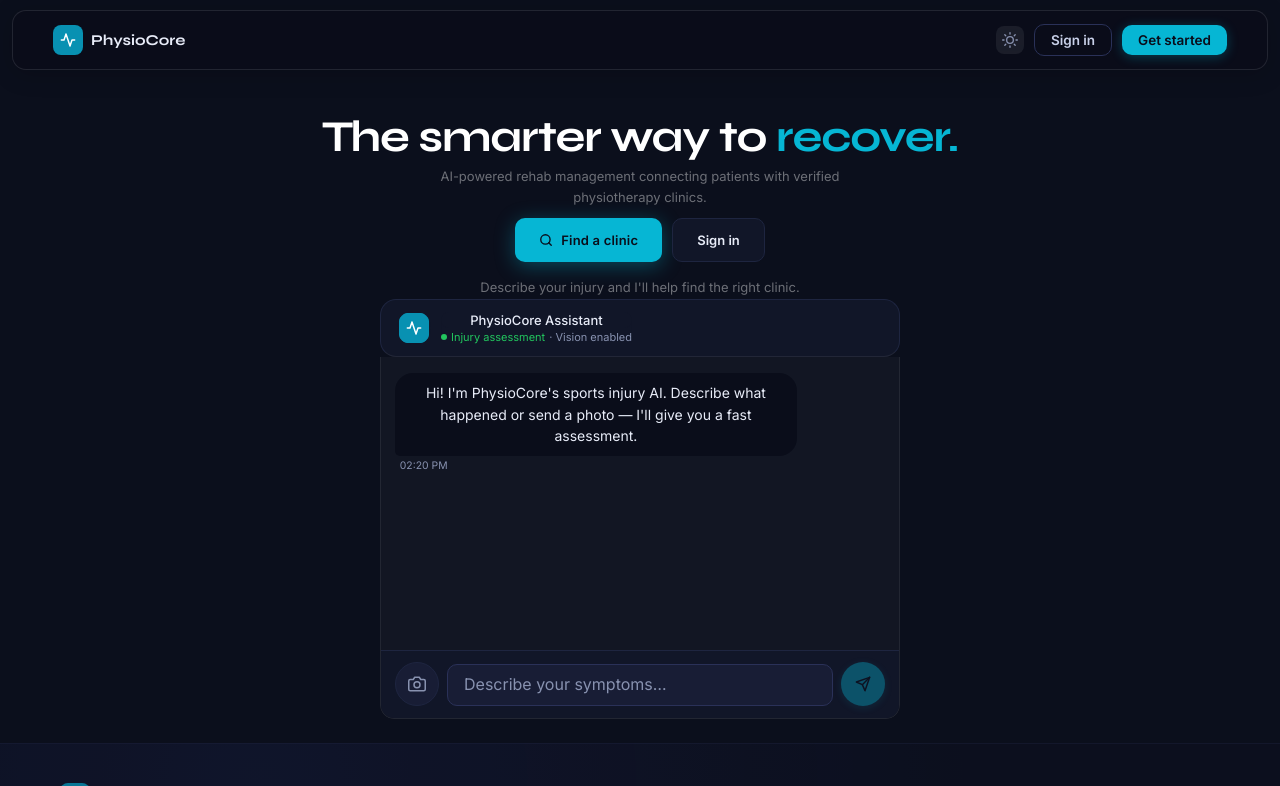
Test: guest landing mounts the chatbot and submits an assessment
Expected: the heading "The smarter way to recover." is shown, [322, 113, 958, 161]
Type "My ankle hurts" into the text box named "Message input".
click(640, 685); type("My ankle hurts")  # box [447, 664, 833, 706]
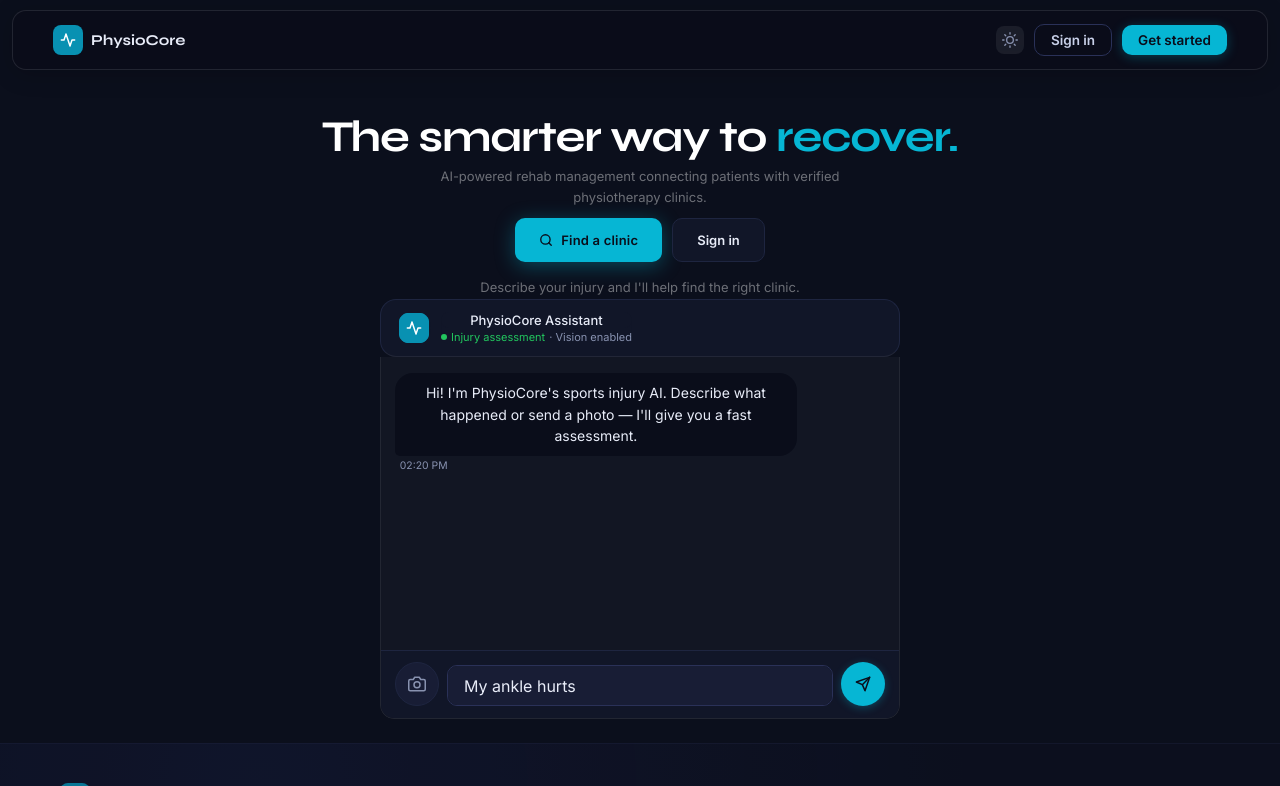
Click the button named "Send message".
click(863, 684)  # box [841, 662, 885, 706]
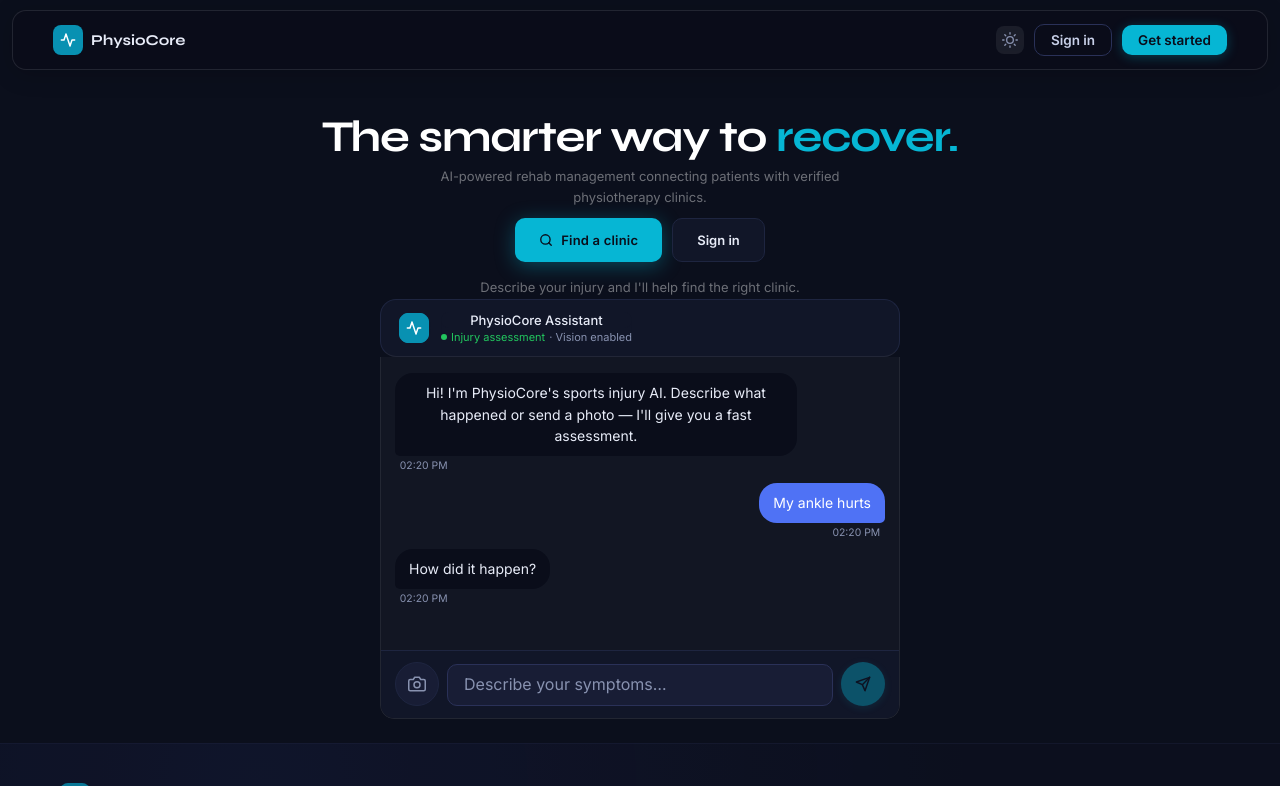
Expected: the text "How did it happen?" is shown, [409, 560, 536, 577]
